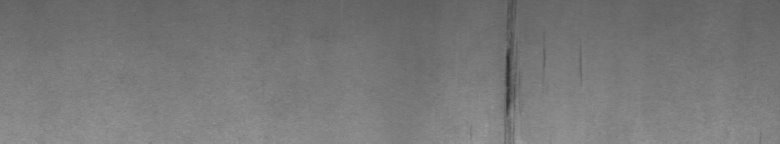hd: (497, 4, 582, 136)
